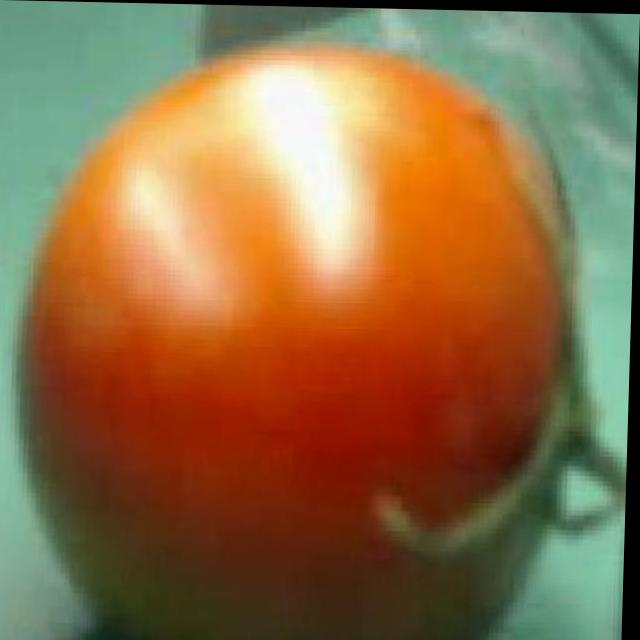tomato: (16, 44, 582, 640)
